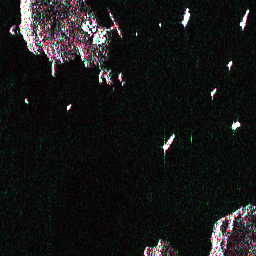ship: (160, 132, 178, 153), (178, 6, 194, 28), (236, 8, 252, 29), (229, 117, 242, 132), (208, 86, 219, 98), (225, 59, 234, 70)
